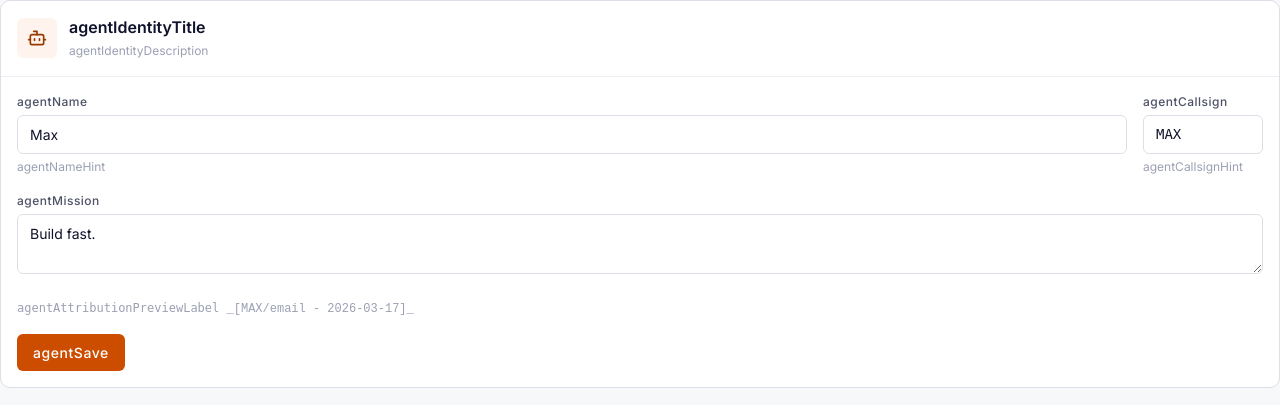
Test: AgentIdentityForm › shows error message when PATCH fails
This screenshot has width=1280, height=405.
Click the button "agentSave": click(71, 352) [17,334,125,371]
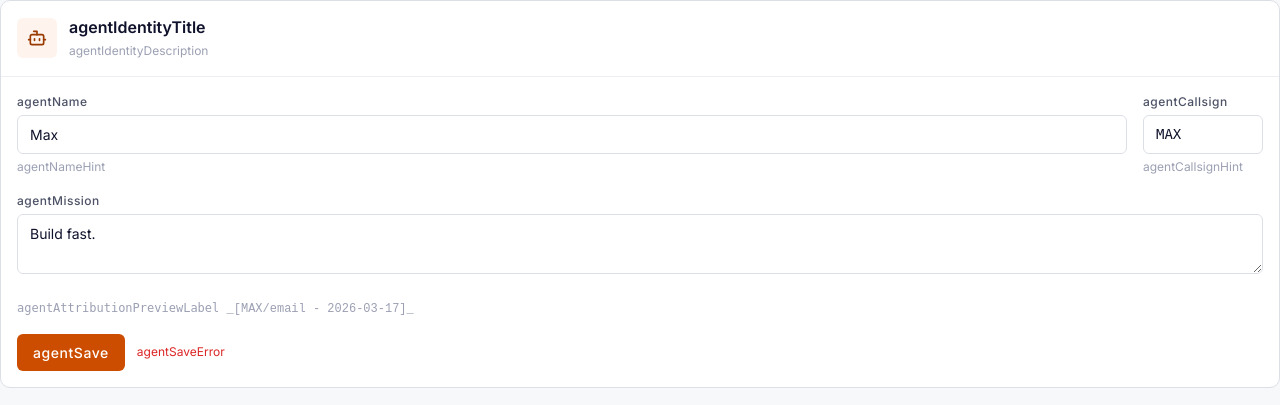
Result: the text "agentSaveError" is shown at [137,343,225,361]
